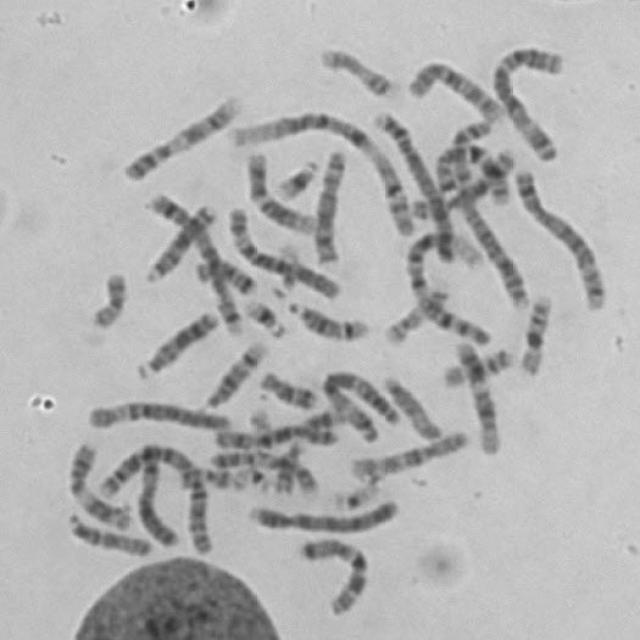A1: (223, 101, 424, 238), (397, 219, 495, 347)
A2: (89, 437, 217, 556), (445, 169, 533, 310)
A3: (482, 34, 566, 163), (314, 361, 404, 444)
B4: (366, 102, 461, 267), (239, 490, 402, 536)
B5: (506, 158, 611, 312), (140, 184, 246, 336)
C10: (342, 421, 472, 484), (400, 51, 506, 124)
C11: (264, 402, 344, 496), (60, 433, 135, 533)
C12: (238, 142, 318, 236), (448, 332, 502, 456)
C6: (220, 198, 344, 302), (79, 391, 234, 433)
C7: (422, 139, 518, 224), (290, 527, 372, 617)
C8: (400, 150, 529, 231), (306, 140, 350, 268)
C9: (114, 86, 243, 182), (201, 439, 321, 498)
D13: (128, 300, 221, 380), (138, 194, 219, 284)
D14: (198, 332, 270, 410), (279, 292, 372, 343)
D15: (374, 366, 446, 443), (60, 504, 155, 558)
E16: (435, 340, 516, 390), (512, 286, 556, 377)
E17: (311, 36, 397, 100), (377, 276, 452, 347)
E18: (251, 362, 321, 412), (189, 251, 260, 297)
F19: (322, 474, 383, 514), (222, 457, 273, 493)
F20: (81, 263, 130, 330), (171, 458, 239, 492)
G21: (268, 150, 322, 200), (236, 290, 288, 340)
G22: (267, 236, 302, 298), (242, 402, 276, 434)
X: (206, 404, 345, 451), (132, 443, 183, 551)
